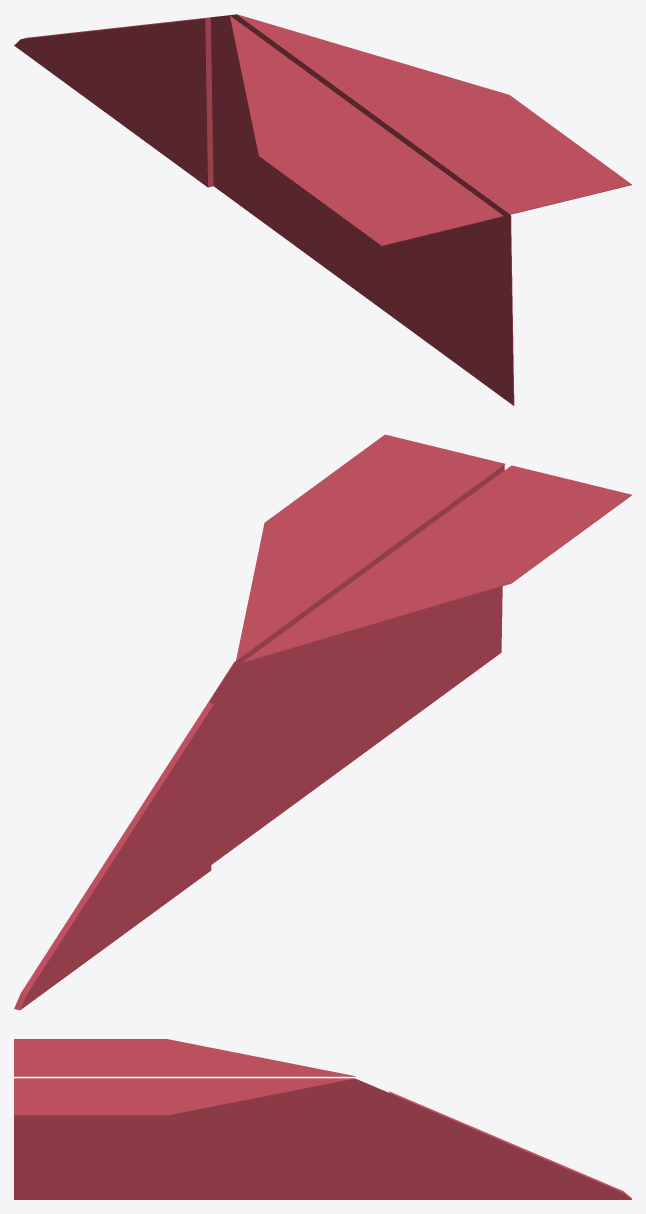
File: paperairplane6.glb
3 renders of one model, top to bottom at view 1: azimuth 30°, elevation 25°; view 2: azimuth 150°, elevation 25°; view 3: azimuth 270°, elevation 25°, orthographic. The views are drawn at different scales.
Visible parts, largest first — view 1: Mesh_Mesh_head_geo.001_lambert2SG.001; view 2: Mesh_Mesh_head_geo.001_lambert2SG.001; view 3: Mesh_Mesh_head_geo.001_lambert2SG.001.
Part boxes in pixels (bbox=[...]): Mesh_Mesh_head_geo.001_lambert2SG.001: bbox=[14, 14, 631, 405]; Mesh_Mesh_head_geo.001_lambert2SG.001: bbox=[14, 434, 631, 1010]; Mesh_Mesh_head_geo.001_lambert2SG.001: bbox=[14, 1039, 631, 1199].
Size of the model in its own units: 4.1 by 3.01 by 14.
